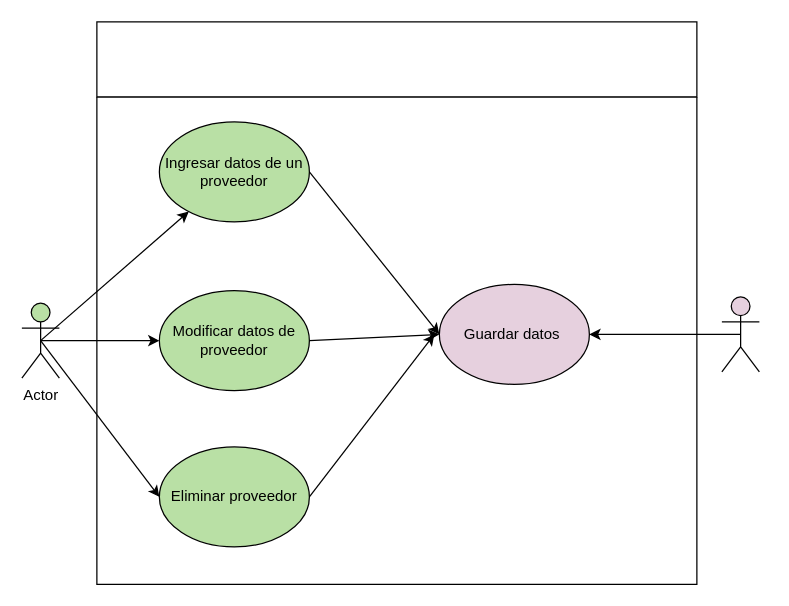
Some shapes in this 789 by 606 pixel diagram are drawn without their labels. The centre of each missing label's shape, as x and y in pixels:
Compra y proveedores: (396,59)
Sistema: (740,334)
